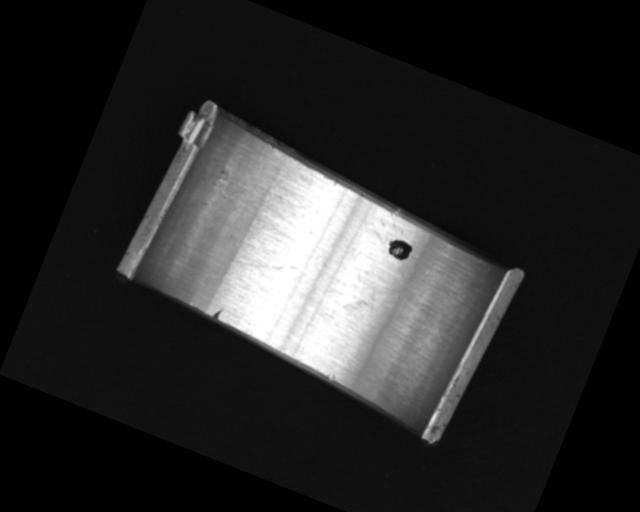blot: (340, 267, 404, 328), (383, 235, 415, 264)
bruise: (211, 305, 225, 321), (326, 373, 337, 383)
